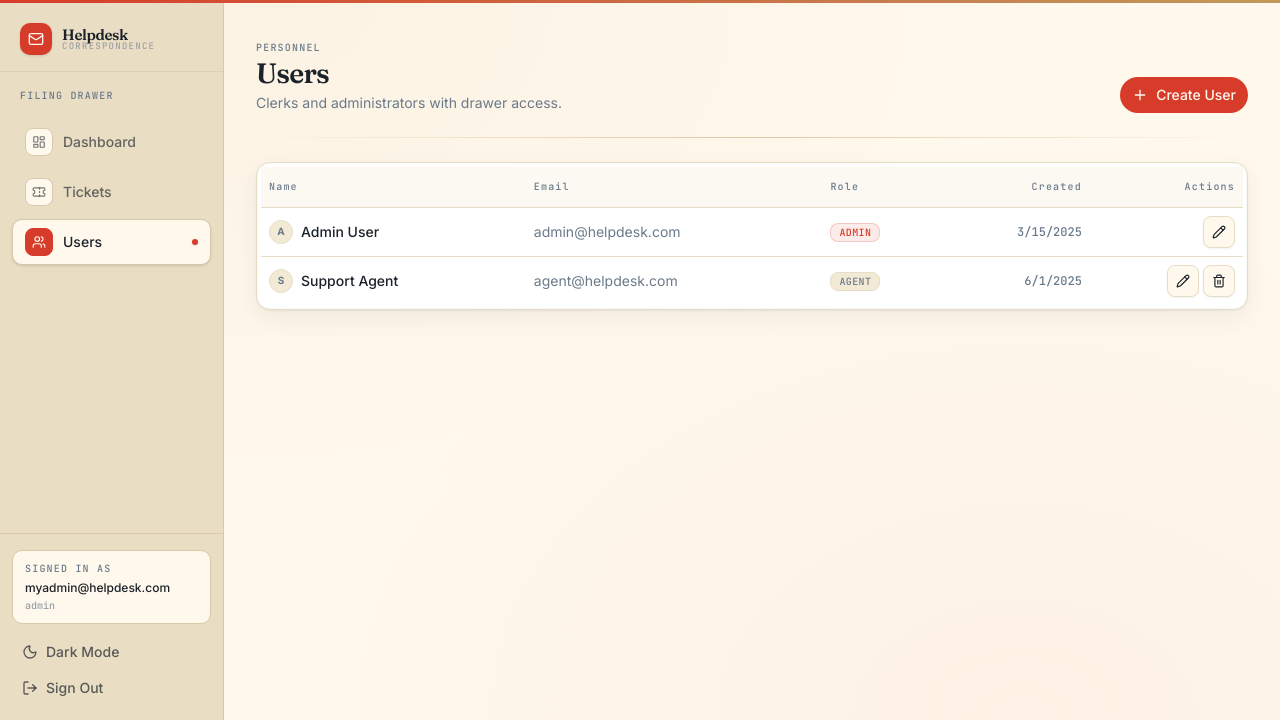
Test: Create User dialog › opens the dialog when clicking Create User button
This screenshot has width=1280, height=720.
Click the button "Create User" at point(1184, 95), box [1120, 77, 1248, 113]
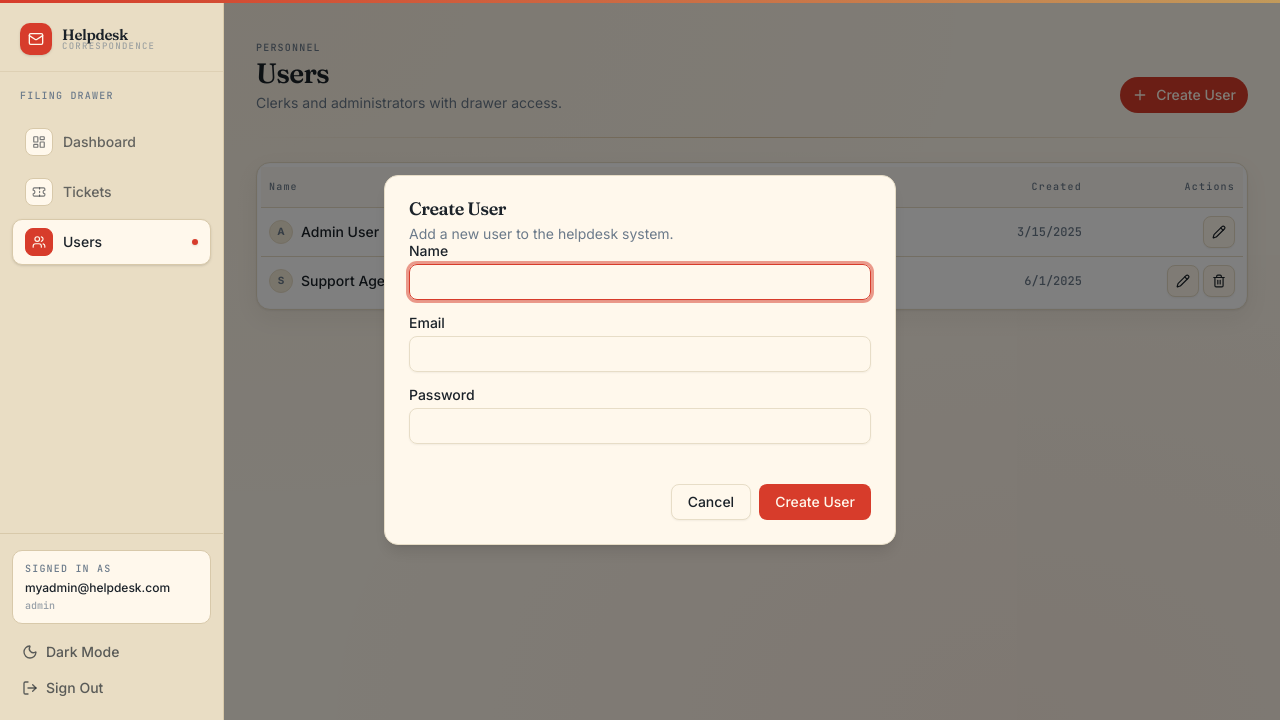
expect the dialog is shown: met, box [384, 175, 896, 545]
expect the text "Add a new user to the helpdesk system." is shown: met, box [409, 225, 674, 242]
